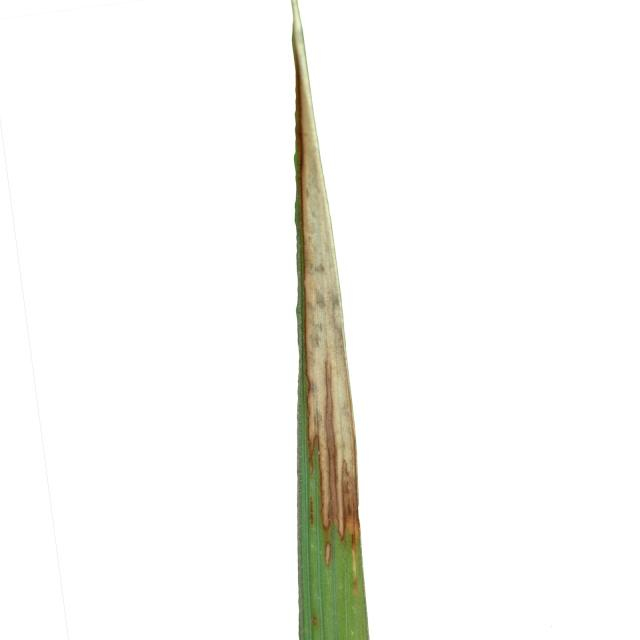Leaf scald: (212, 0, 430, 640)
